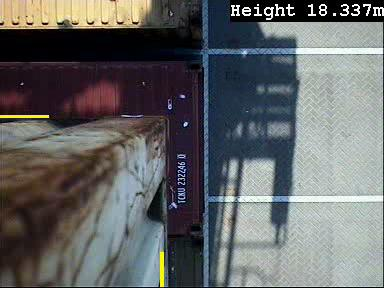groundmarker_2: (150, 41, 250, 109)
